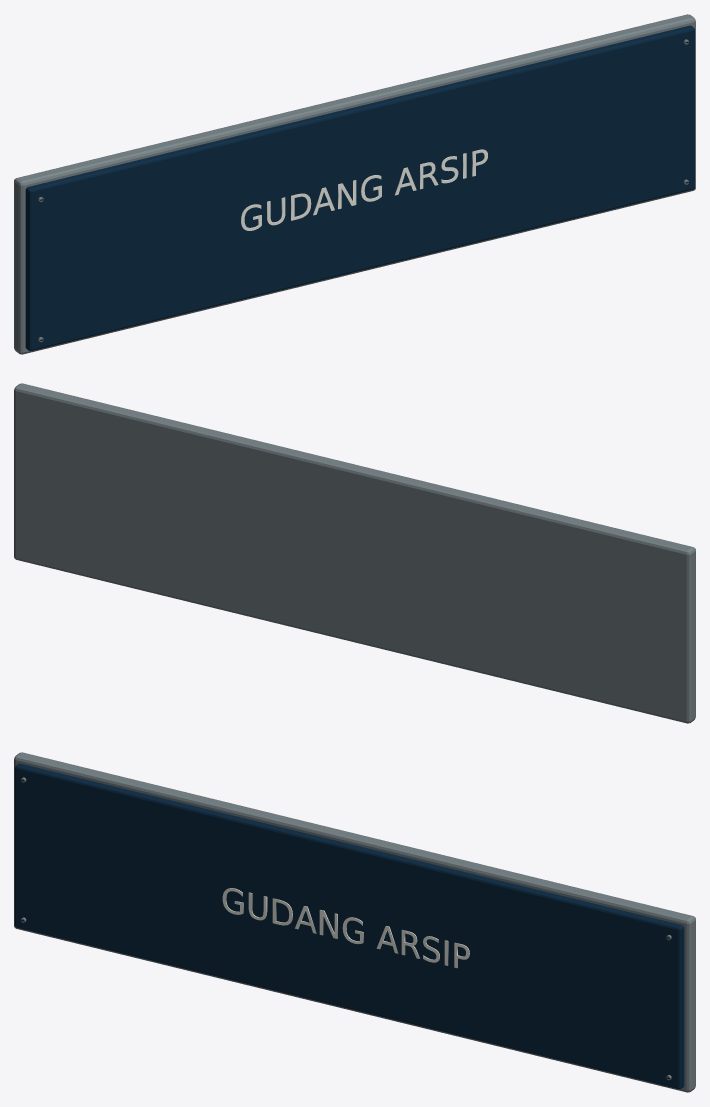
Rendered from OAA_Papan_Ruang_Gudang_Arsip.fbx.
3 views of the same model, one above another, from view 1: azimuth 30°, elevation 25°; view 2: azimuth 150°, elevation 25°; view 3: azimuth 330°, elevation 25° (orthographic).
Parts seen in each view (by area): view 1: Body; view 2: Body; view 3: Body.
Boxes of the visible parts, x1,y1,x2,y2 form: Body: [14, 14, 695, 354]; Body: [14, 383, 695, 723]; Body: [14, 752, 695, 1092].
Size of the model in its own units: 0.9 by 0.22 by 0.0312.
